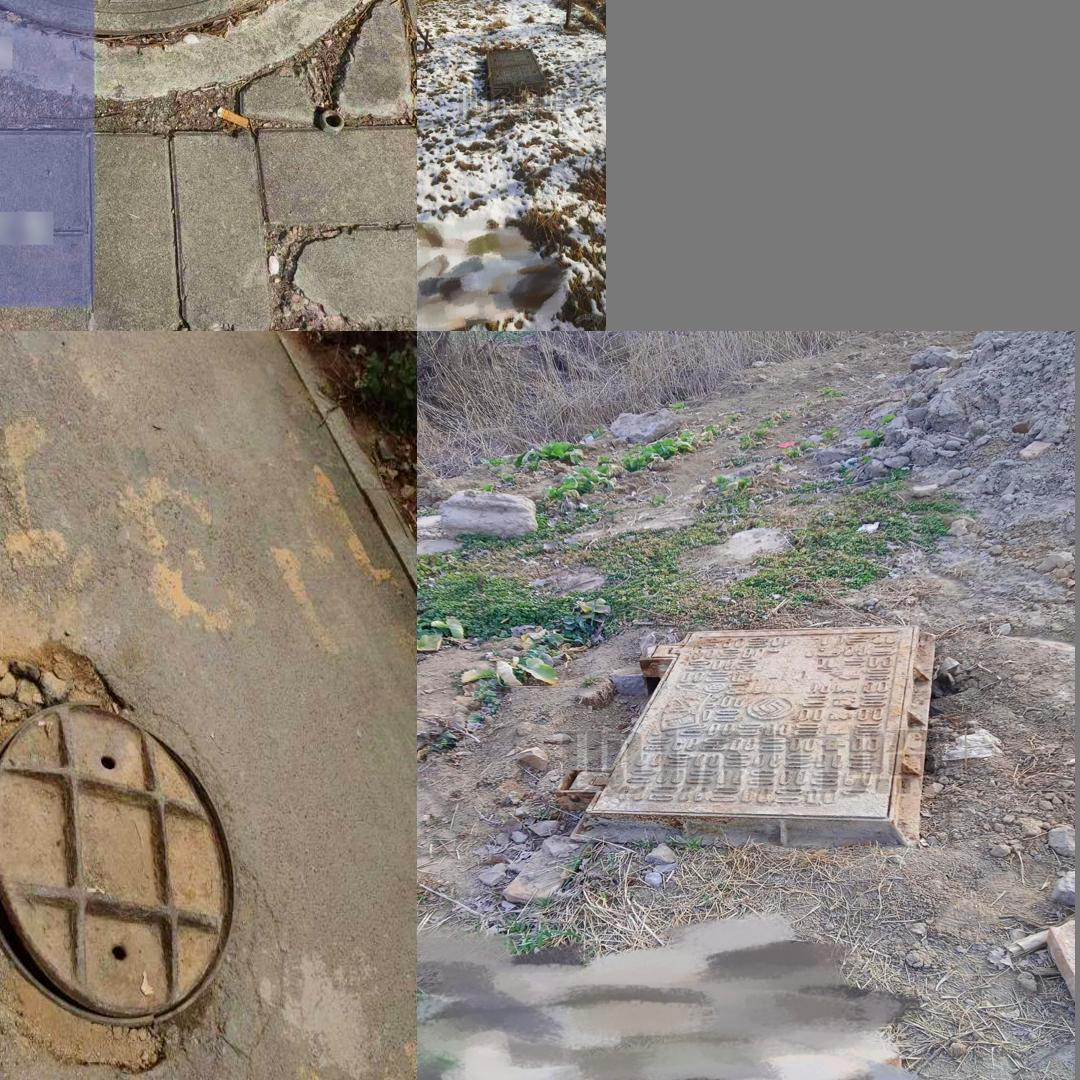circle: (0, 633, 278, 1080), (555, 618, 948, 852), (0, 0, 404, 78), (483, 48, 551, 103)
